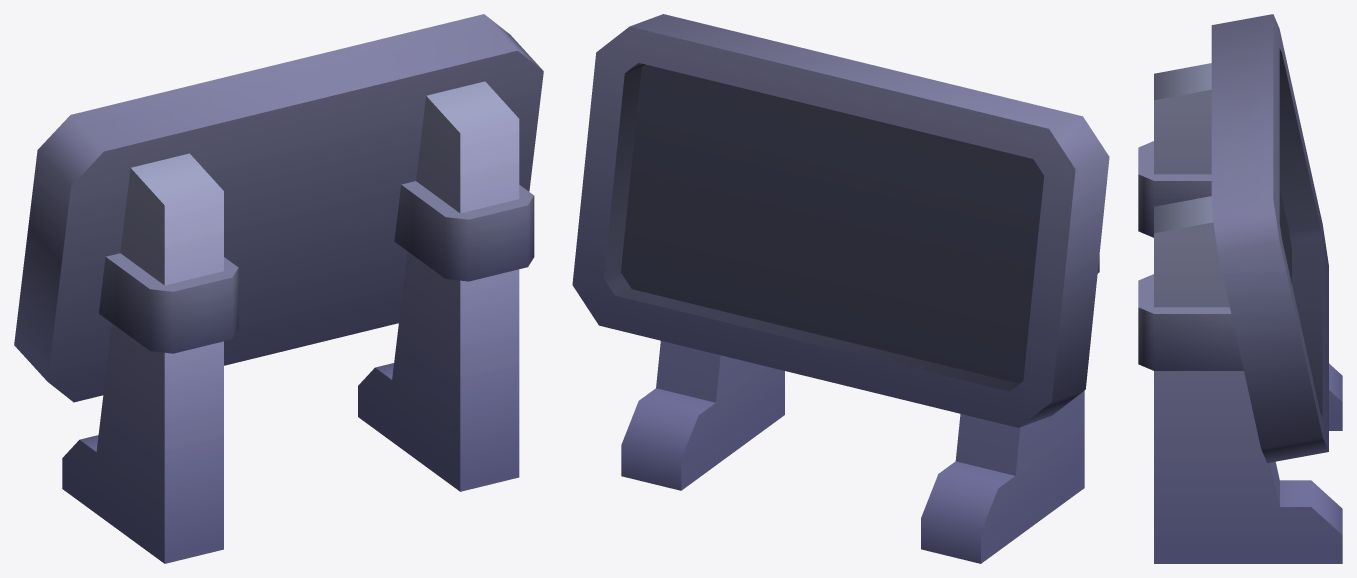
File: kenney-conveyor-screen-wide.glb
The picture shows the model from 3 angles, left to right: view 1: azimuth 30°, elevation 25°; view 2: azimuth 150°, elevation 25°; view 3: azimuth 270°, elevation 25°; orthographic projection. The views are drawn at different scales.
Visible parts, largest first — view 1: screen-wide; view 2: screen-wide; view 3: screen-wide.
Part boxes in pixels (bbox=[...]): screen-wide: bbox=[14, 14, 543, 563]; screen-wide: bbox=[572, 14, 1109, 563]; screen-wide: bbox=[1138, 14, 1342, 563].
Bounding box in the file's own units: 1.2 × 0.9914 × 0.4876.
Materials: 1 (1 with a texture image).
